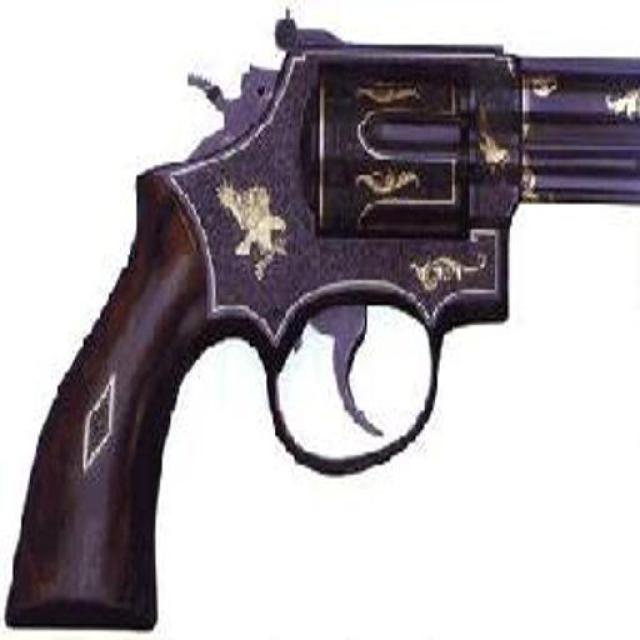pistol: (1, 6, 640, 630)
